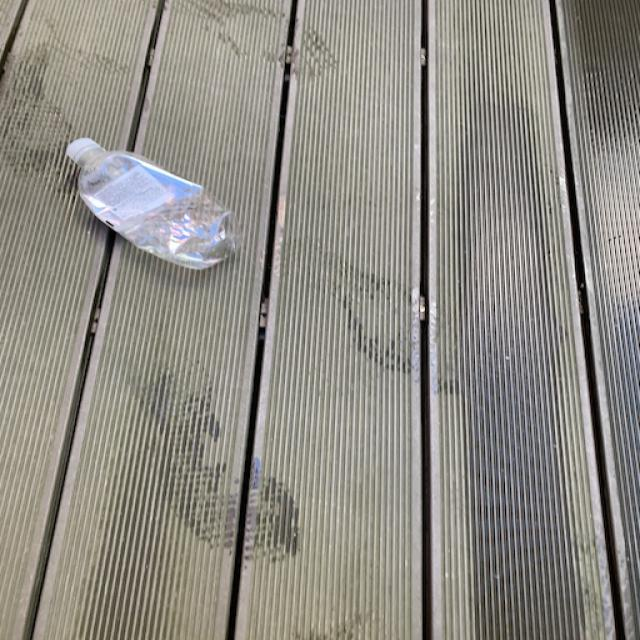litter: (66, 138, 242, 276)
